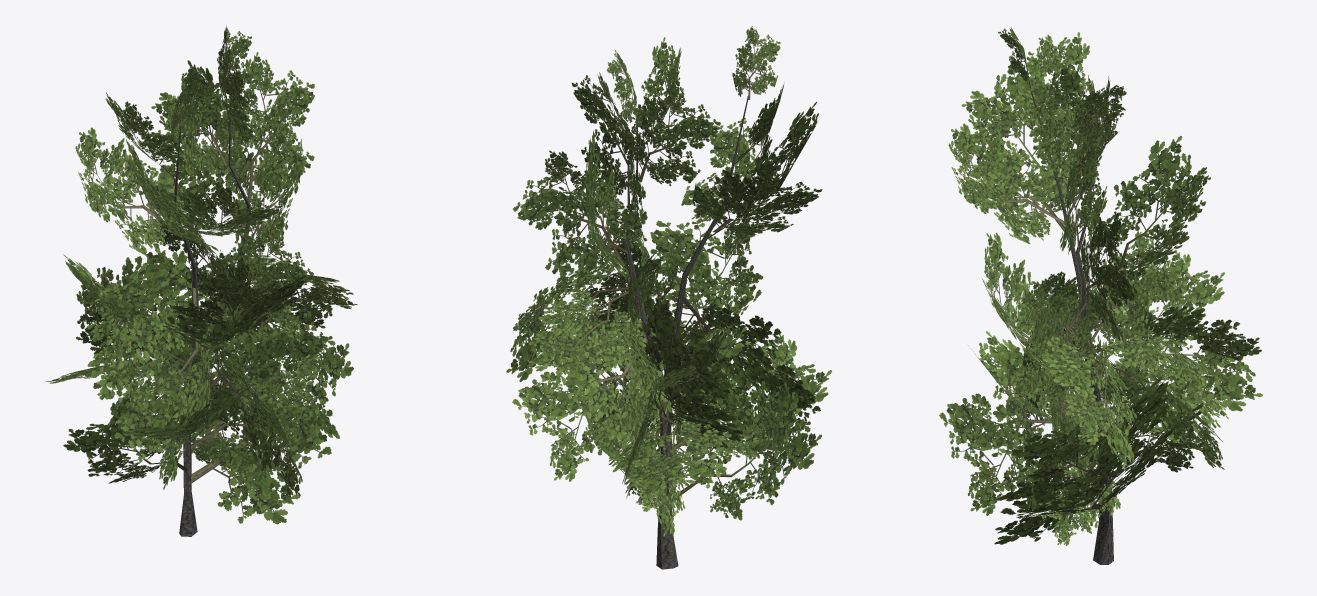
The model's file is tree12.glb.
3 views of the same model, side by side, from view 1: azimuth 30°, elevation 25°; view 2: azimuth 150°, elevation 25°; view 3: azimuth 270°, elevation 25° (orthographic). The views are drawn at different scales.
Visible parts, largest first — view 1: Tree-03-4; view 2: Tree-03-4; view 3: Tree-03-4.
Part boxes in pixels (bbox=[...]): Tree-03-4: bbox=[45, 25, 357, 536]; Tree-03-4: bbox=[506, 26, 831, 569]; Tree-03-4: bbox=[939, 27, 1262, 564].
Size of the model in its own units: 4.59 by 6.41 by 4.37.
3 materials, 3 textured.
